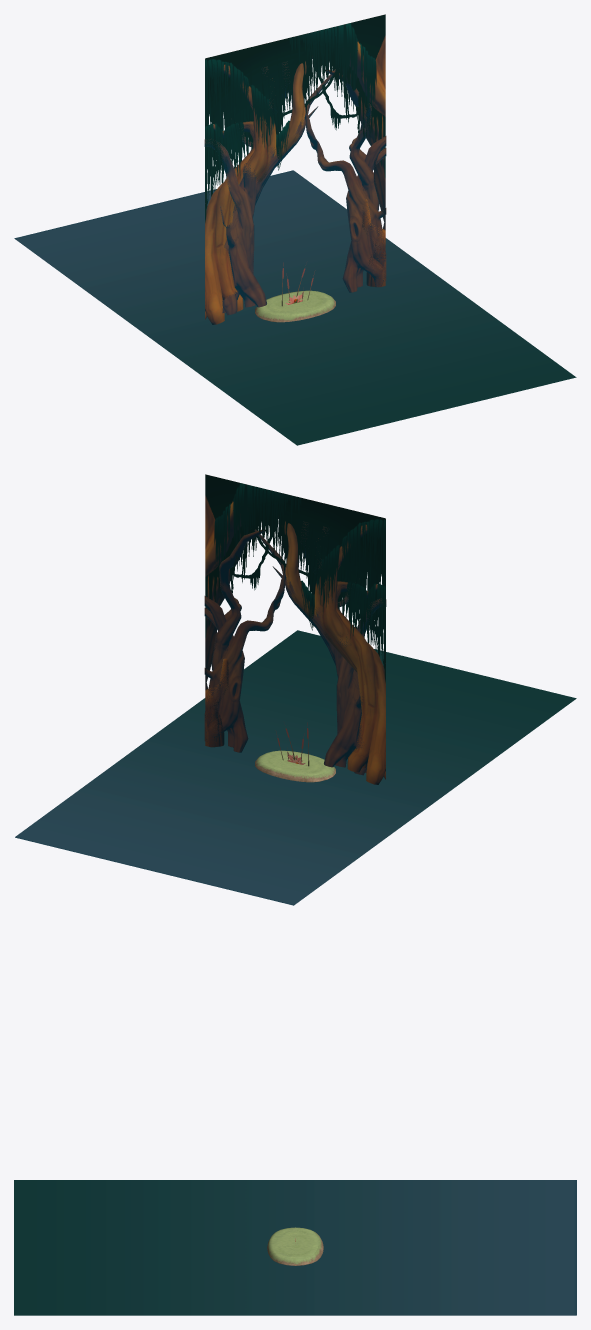
Rendered from MDL_GMB_Planes.fbx.
3 renders of one model, top to bottom at view 1: azimuth 30°, elevation 25°; view 2: azimuth 150°, elevation 25°; view 3: azimuth 270°, elevation 25°, orthographic.
Parts seen in each view (by area): view 1: Ground, MDL_GMB_Front, MDL_GMB_Mid, Island; view 2: Ground, MDL_GMB_Front, MDL_GMB_Mid, Island; view 3: Ground, Island.
Part boxes in pixels (left/top/right/bottom): Ground: left=14, top=170, right=576, bottom=445; MDL_GMB_Front: left=205, top=14, right=385, bottom=324; MDL_GMB_Mid: left=204, top=61, right=386, bottom=315; Island: left=255, top=290, right=335, bottom=322; Ground: left=15, top=630, right=576, bottom=905; MDL_GMB_Front: left=205, top=474, right=385, bottom=784; MDL_GMB_Mid: left=204, top=521, right=386, bottom=775; Island: left=255, top=750, right=335, bottom=782; Ground: left=14, top=1180, right=576, bottom=1315; Island: left=267, top=1227, right=323, bottom=1265.
Size of the model in its own units: 15.48 by 14.43 by 27.13.
